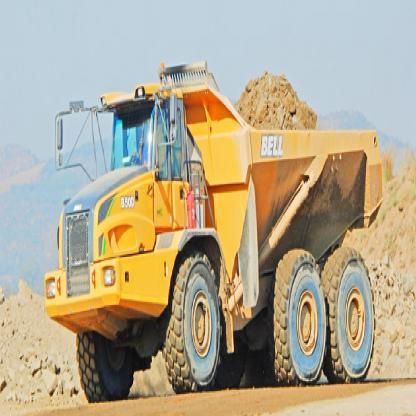dump_truck: (44, 48, 388, 393)
